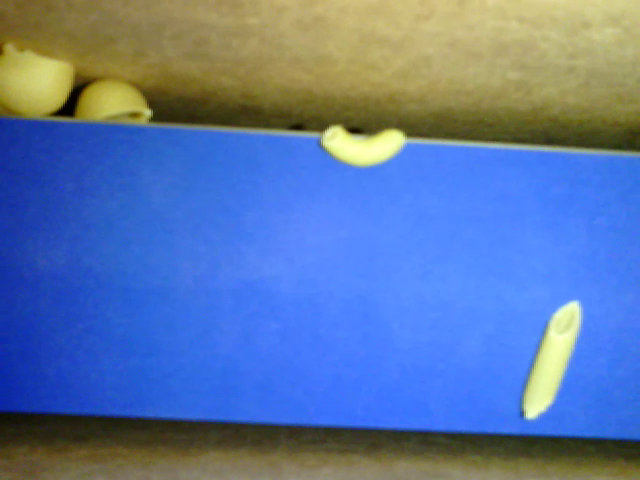elbow: (320, 124, 405, 163)
penne: (521, 300, 581, 419)
shell: (1, 44, 74, 115), (73, 78, 153, 124)
